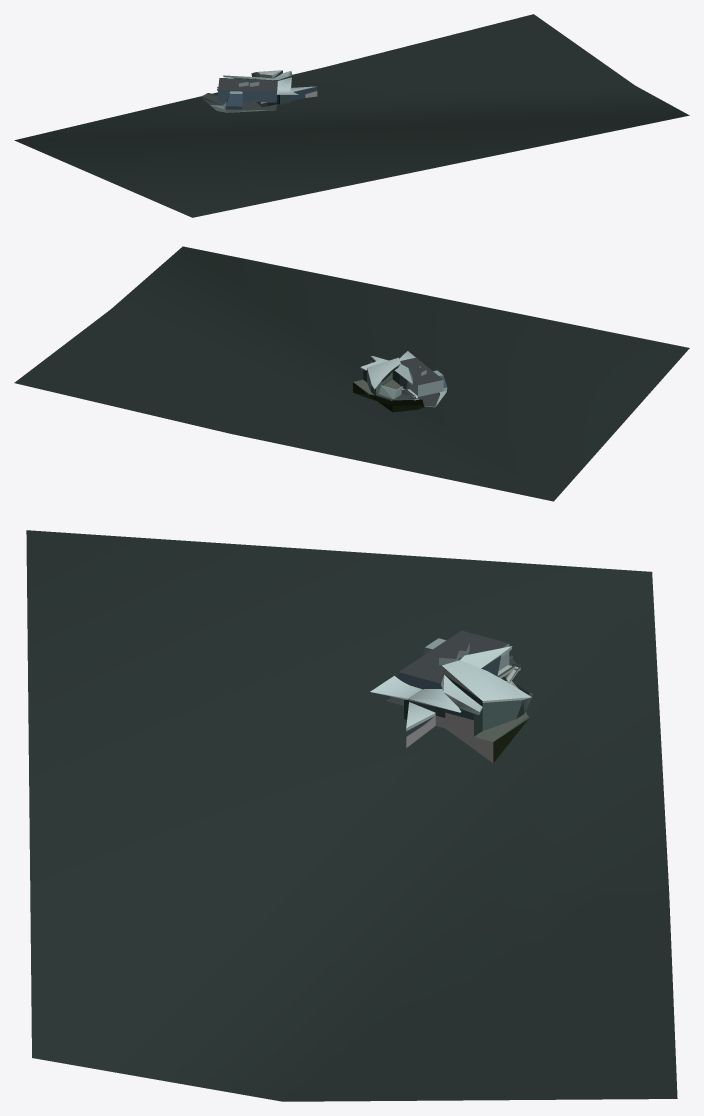
Rendered from the-hunter-museum-of-american-art.glb.
3 renders of one model, top to bottom at view 1: azimuth 30°, elevation 25°; view 2: azimuth 150°, elevation 25°; view 3: azimuth 270°, elevation 25°, orthographic. The views are drawn at different scales.
Visible parts, largest first — view 1: LOD0; view 2: LOD0; view 3: LOD0.
Part boxes in pixels (<box>): LOD0: <box>14,14,689,217</box>; LOD0: <box>14,246,689,501</box>; LOD0: <box>26,530,677,1101</box>.
Size of what is drawn, in the model's own units: 366 by 39.79 by 195.
Materials: 2 (2 with a texture image).
